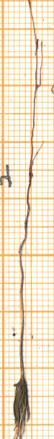flower: (2, 372, 39, 439)
root: (24, 0, 48, 176)
stem: (14, 176, 37, 372)
